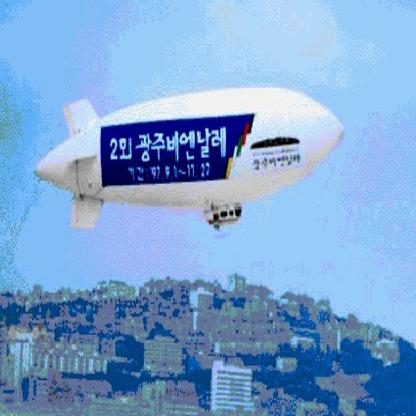Airship: (30, 84, 349, 232)
